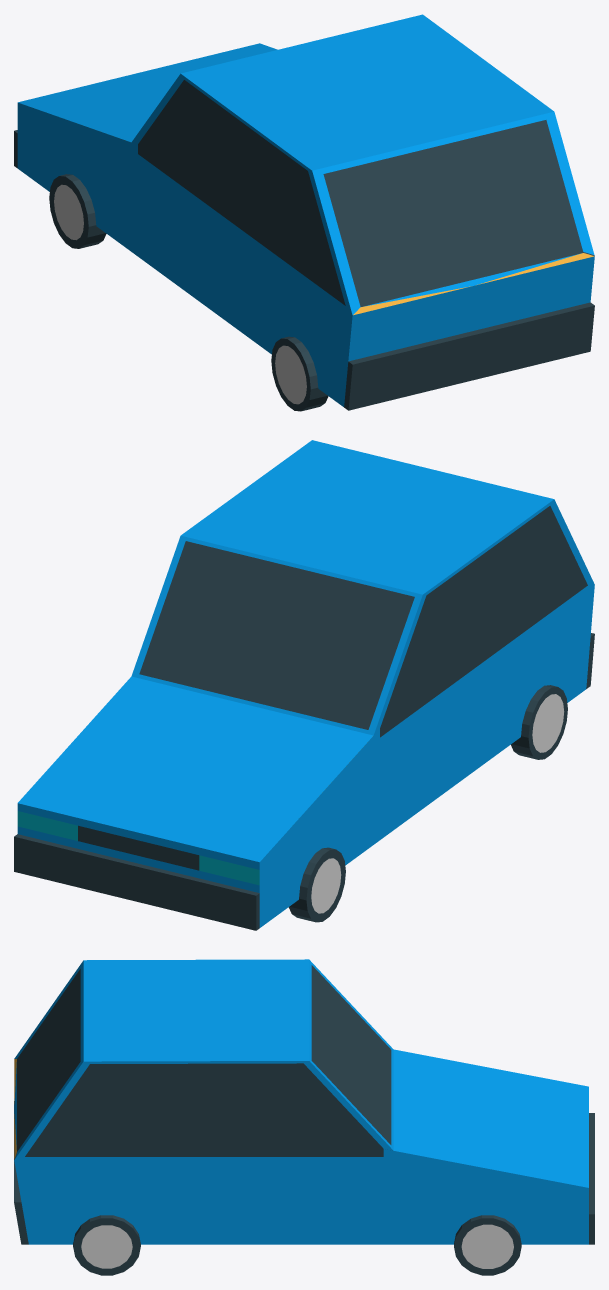
File: CarBlue1x1.fbx
The picture shows the model from 3 angles, top to bottom: view 1: azimuth 30°, elevation 25°; view 2: azimuth 150°, elevation 25°; view 3: azimuth 270°, elevation 25°; orthographic projection. The views are drawn at different scales.
Parts seen in each view (by area): view 1: CAR_03_2_3; view 2: CAR_03_2_3; view 3: CAR_03_2_3.
Boxes of the visible parts, x1,y1,x2,y2 form: CAR_03_2_3: (14, 14, 594, 411); CAR_03_2_3: (14, 440, 594, 930); CAR_03_2_3: (14, 959, 594, 1275).
Bounding box in the file's own units: 0.4304 × 0.3941 × 0.9813.
1 material, 1 textured.
